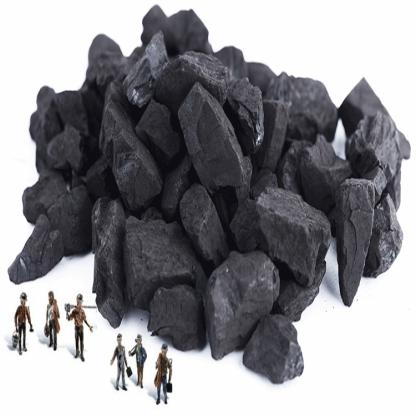Sedimentary_coal: (154, 98, 270, 290)
